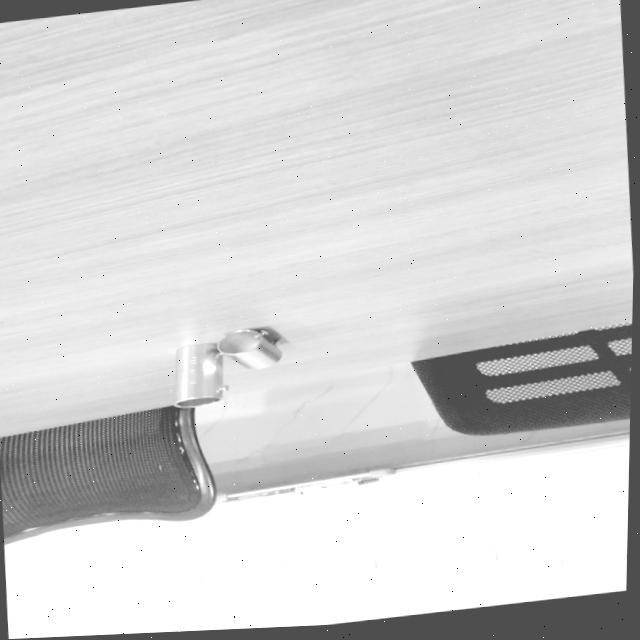Co_Lon: (172, 342, 222, 407)
Co_Nho: (228, 330, 284, 381)
